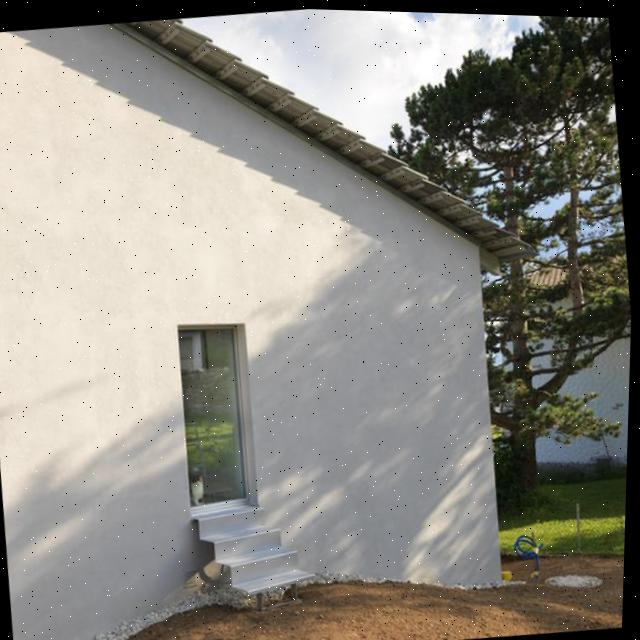building: (0, 0, 578, 640), (477, 245, 633, 486)
